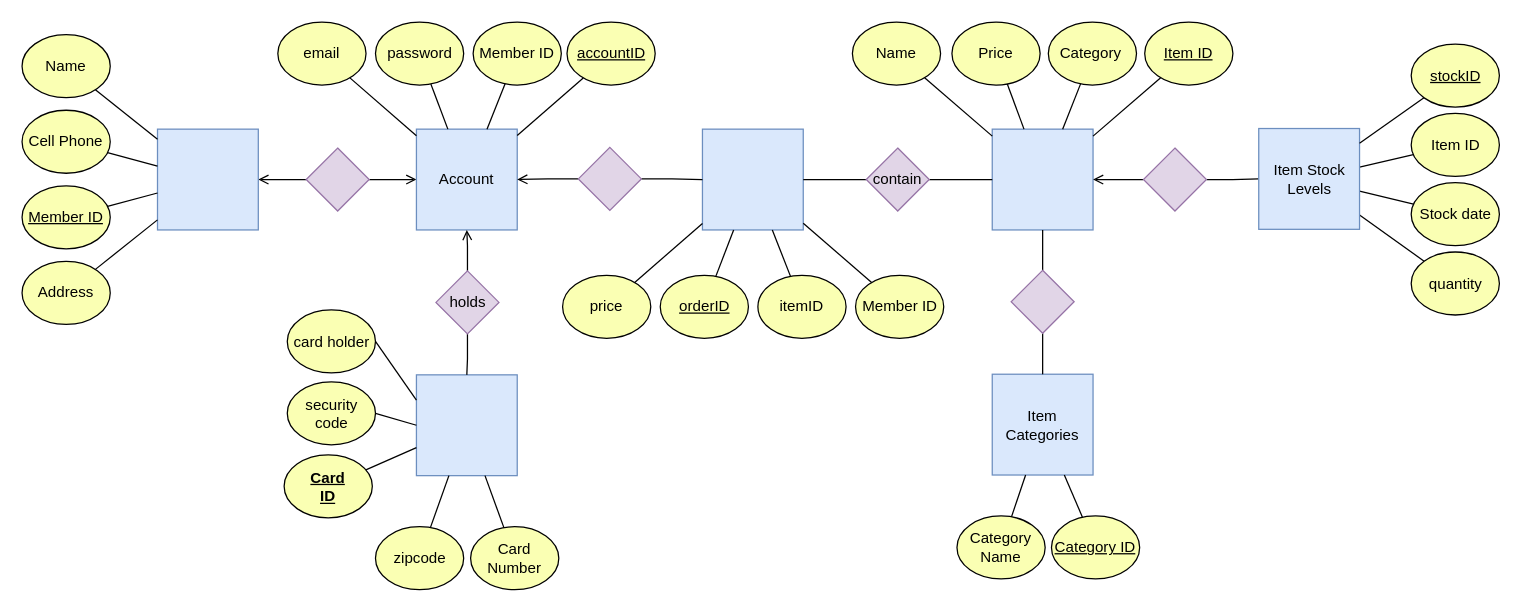
This 1522x612 diagram has some shape labels left out. Here are the shapes that lost their labels. From the top down, the box of each, then its label:
(156, 128, 258, 230): Customer
(305, 147, 369, 211): owns
(577, 146, 641, 210): make
(701, 128, 803, 230): Orders
(991, 128, 1093, 230): Item
(1142, 147, 1206, 211): has
(1010, 269, 1074, 333): belongs
(415, 374, 517, 476): Card Info
